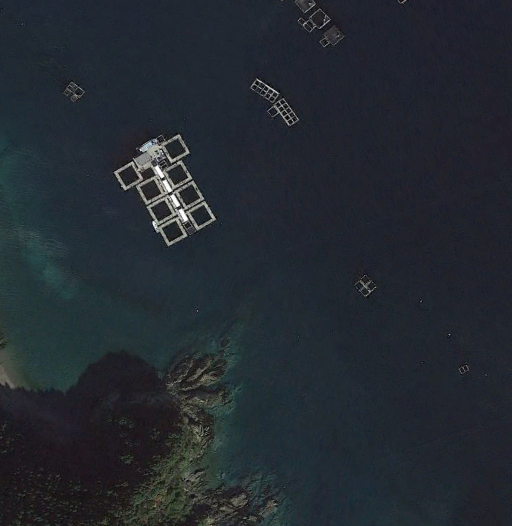square: (135, 172, 170, 206), (170, 174, 204, 207), (157, 215, 189, 249), (151, 191, 180, 227), (161, 133, 192, 164), (109, 162, 143, 190), (159, 161, 193, 187), (355, 271, 382, 300), (187, 199, 215, 225), (321, 19, 345, 47), (309, 5, 332, 29)
